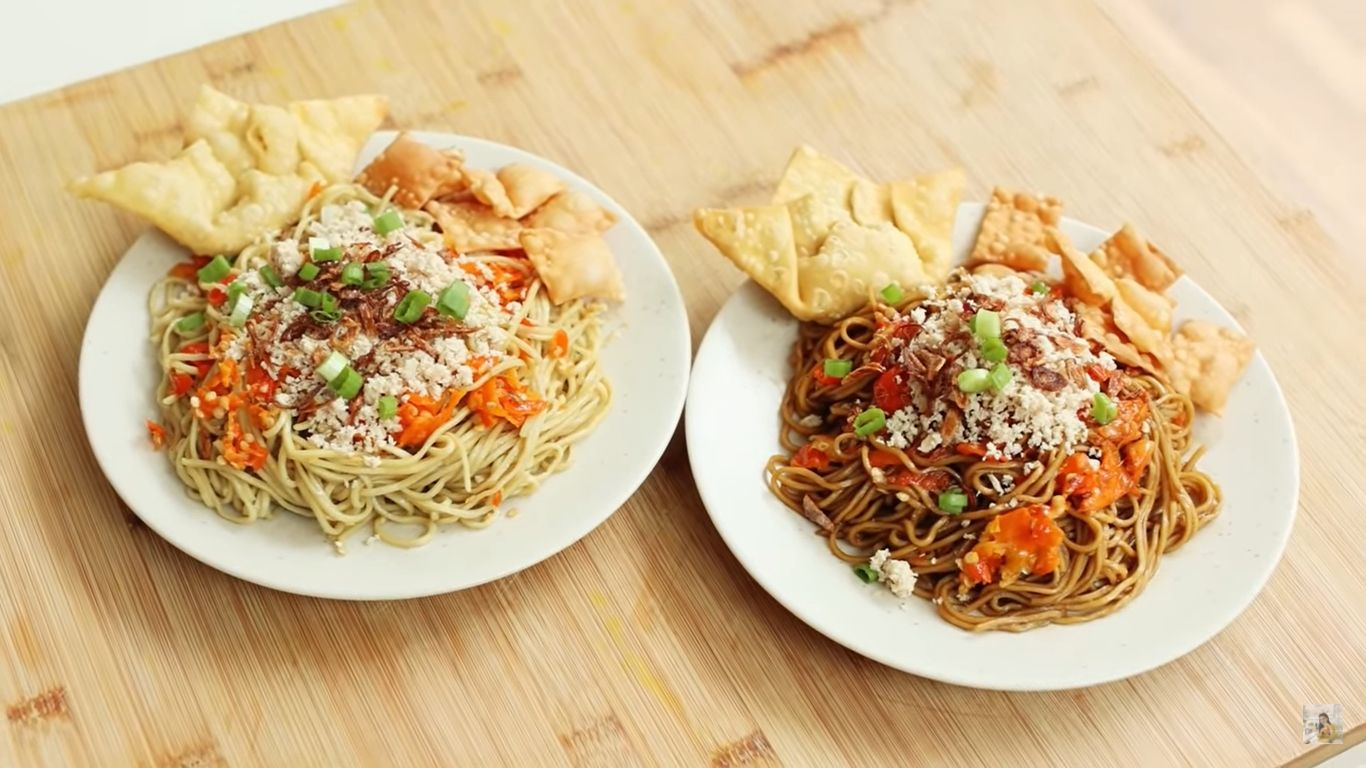Mie: (130, 181, 646, 575), (747, 237, 1202, 602)
